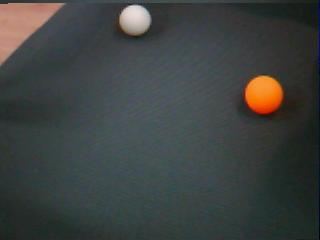oball: (245, 74, 284, 115)
